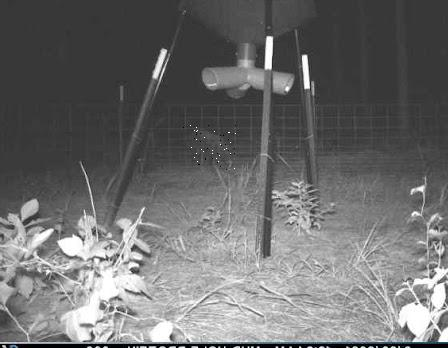Hog: (182, 125, 237, 173)
